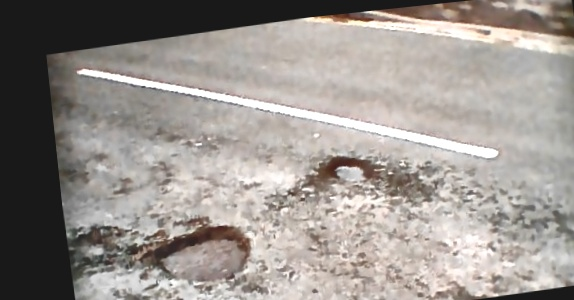pothole: (151, 218, 257, 293), (324, 148, 377, 190)
